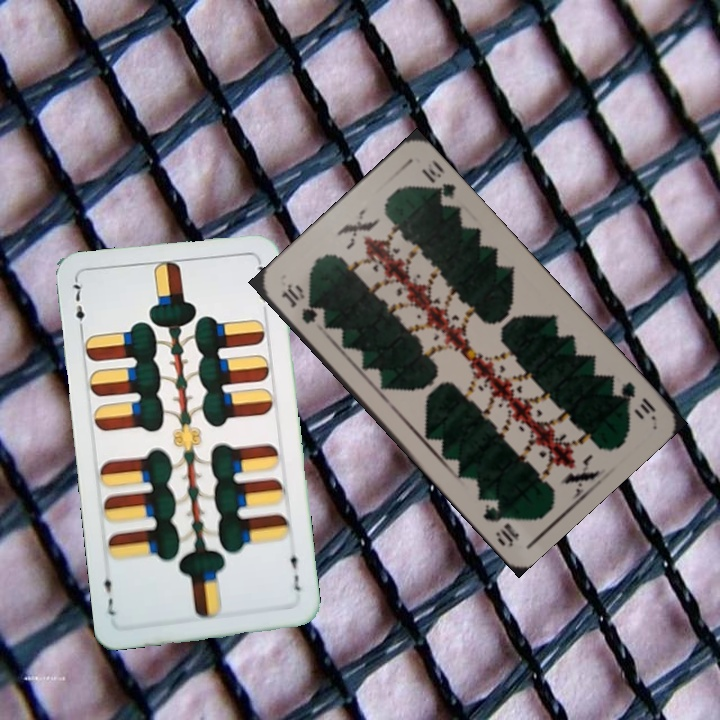E7: (70, 277, 87, 336), (286, 544, 303, 595)
G10: (277, 279, 320, 327), (614, 377, 659, 420)
